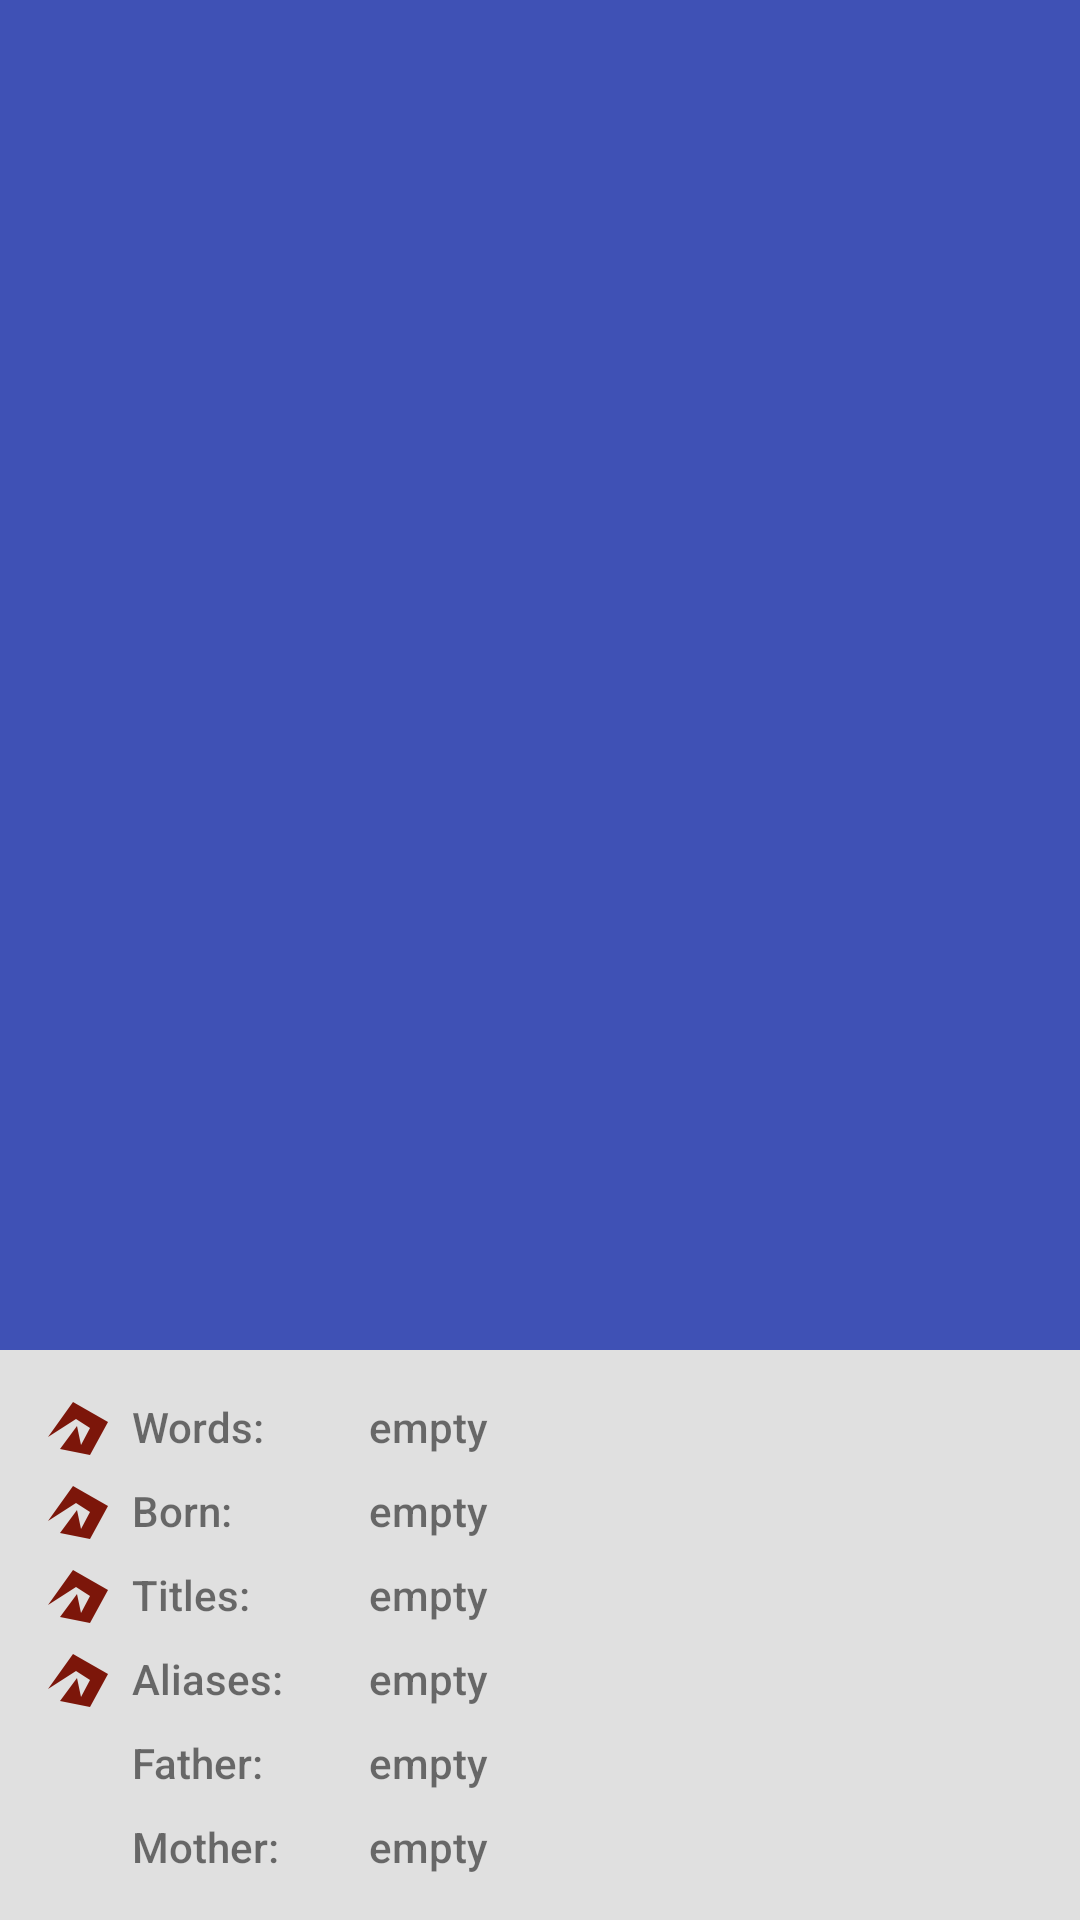

Icon bounding boxes for this 1080x1920 phone screenshot, format {"left": x1, "top": y1, "right": x2, "bottom": y2}:
indicator: {"left": 48, "top": 1402, "right": 108, "bottom": 1455}, {"left": 48, "top": 1486, "right": 108, "bottom": 1539}, {"left": 48, "top": 1570, "right": 108, "bottom": 1623}, {"left": 48, "top": 1654, "right": 108, "bottom": 1707}
